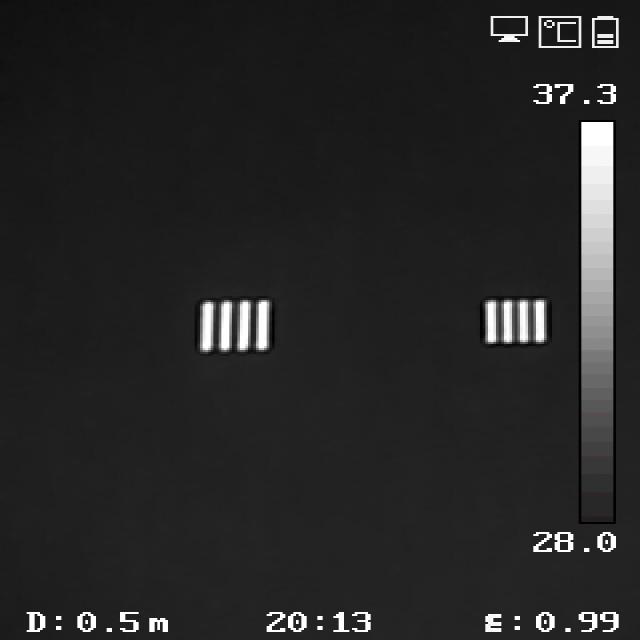Distinguishable 4-bar target: (198, 302, 274, 355)
